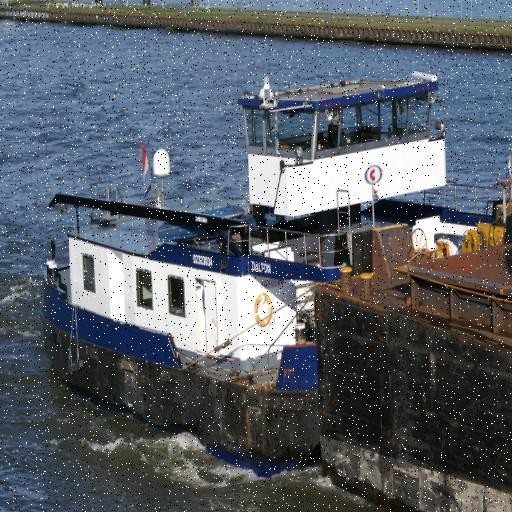tugboat: (40, 67, 512, 489)
